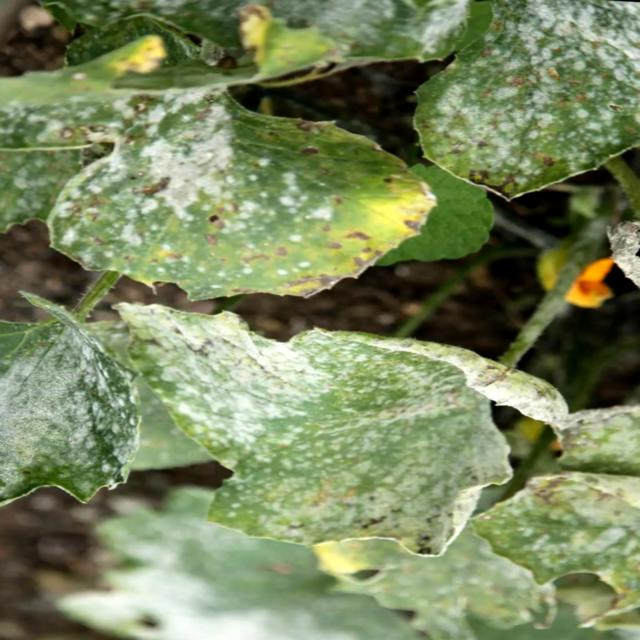Powdery_mildew_on_lettuce: (0, 2, 640, 302), (0, 306, 536, 551), (290, 386, 640, 640)
